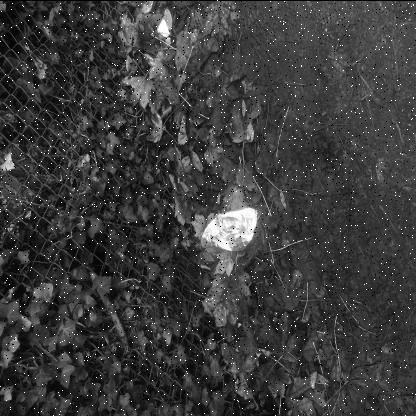metal: (202, 206, 258, 252)
